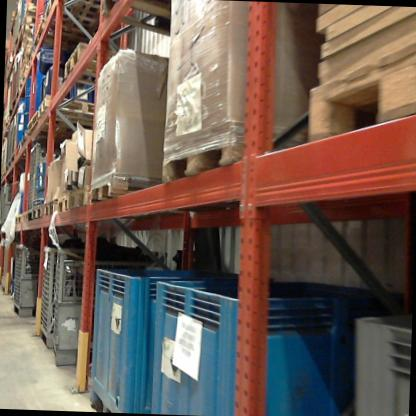pallet: (157, 131, 318, 211), (299, 44, 416, 148), (31, 18, 127, 67), (96, 0, 192, 47), (61, 37, 125, 96), (89, 170, 169, 217), (25, 110, 100, 146), (45, 0, 109, 34), (69, 181, 93, 216), (13, 139, 32, 164), (56, 189, 71, 219), (44, 196, 61, 221), (19, 69, 34, 95), (31, 201, 47, 224), (14, 210, 23, 225), (22, 211, 28, 223)
stillage: (52, 249, 145, 374), (10, 241, 60, 321), (34, 237, 64, 367), (26, 143, 48, 224), (0, 181, 20, 235), (6, 64, 20, 112), (4, 125, 17, 175), (8, 5, 20, 59), (10, 117, 21, 171), (14, 57, 25, 103)
